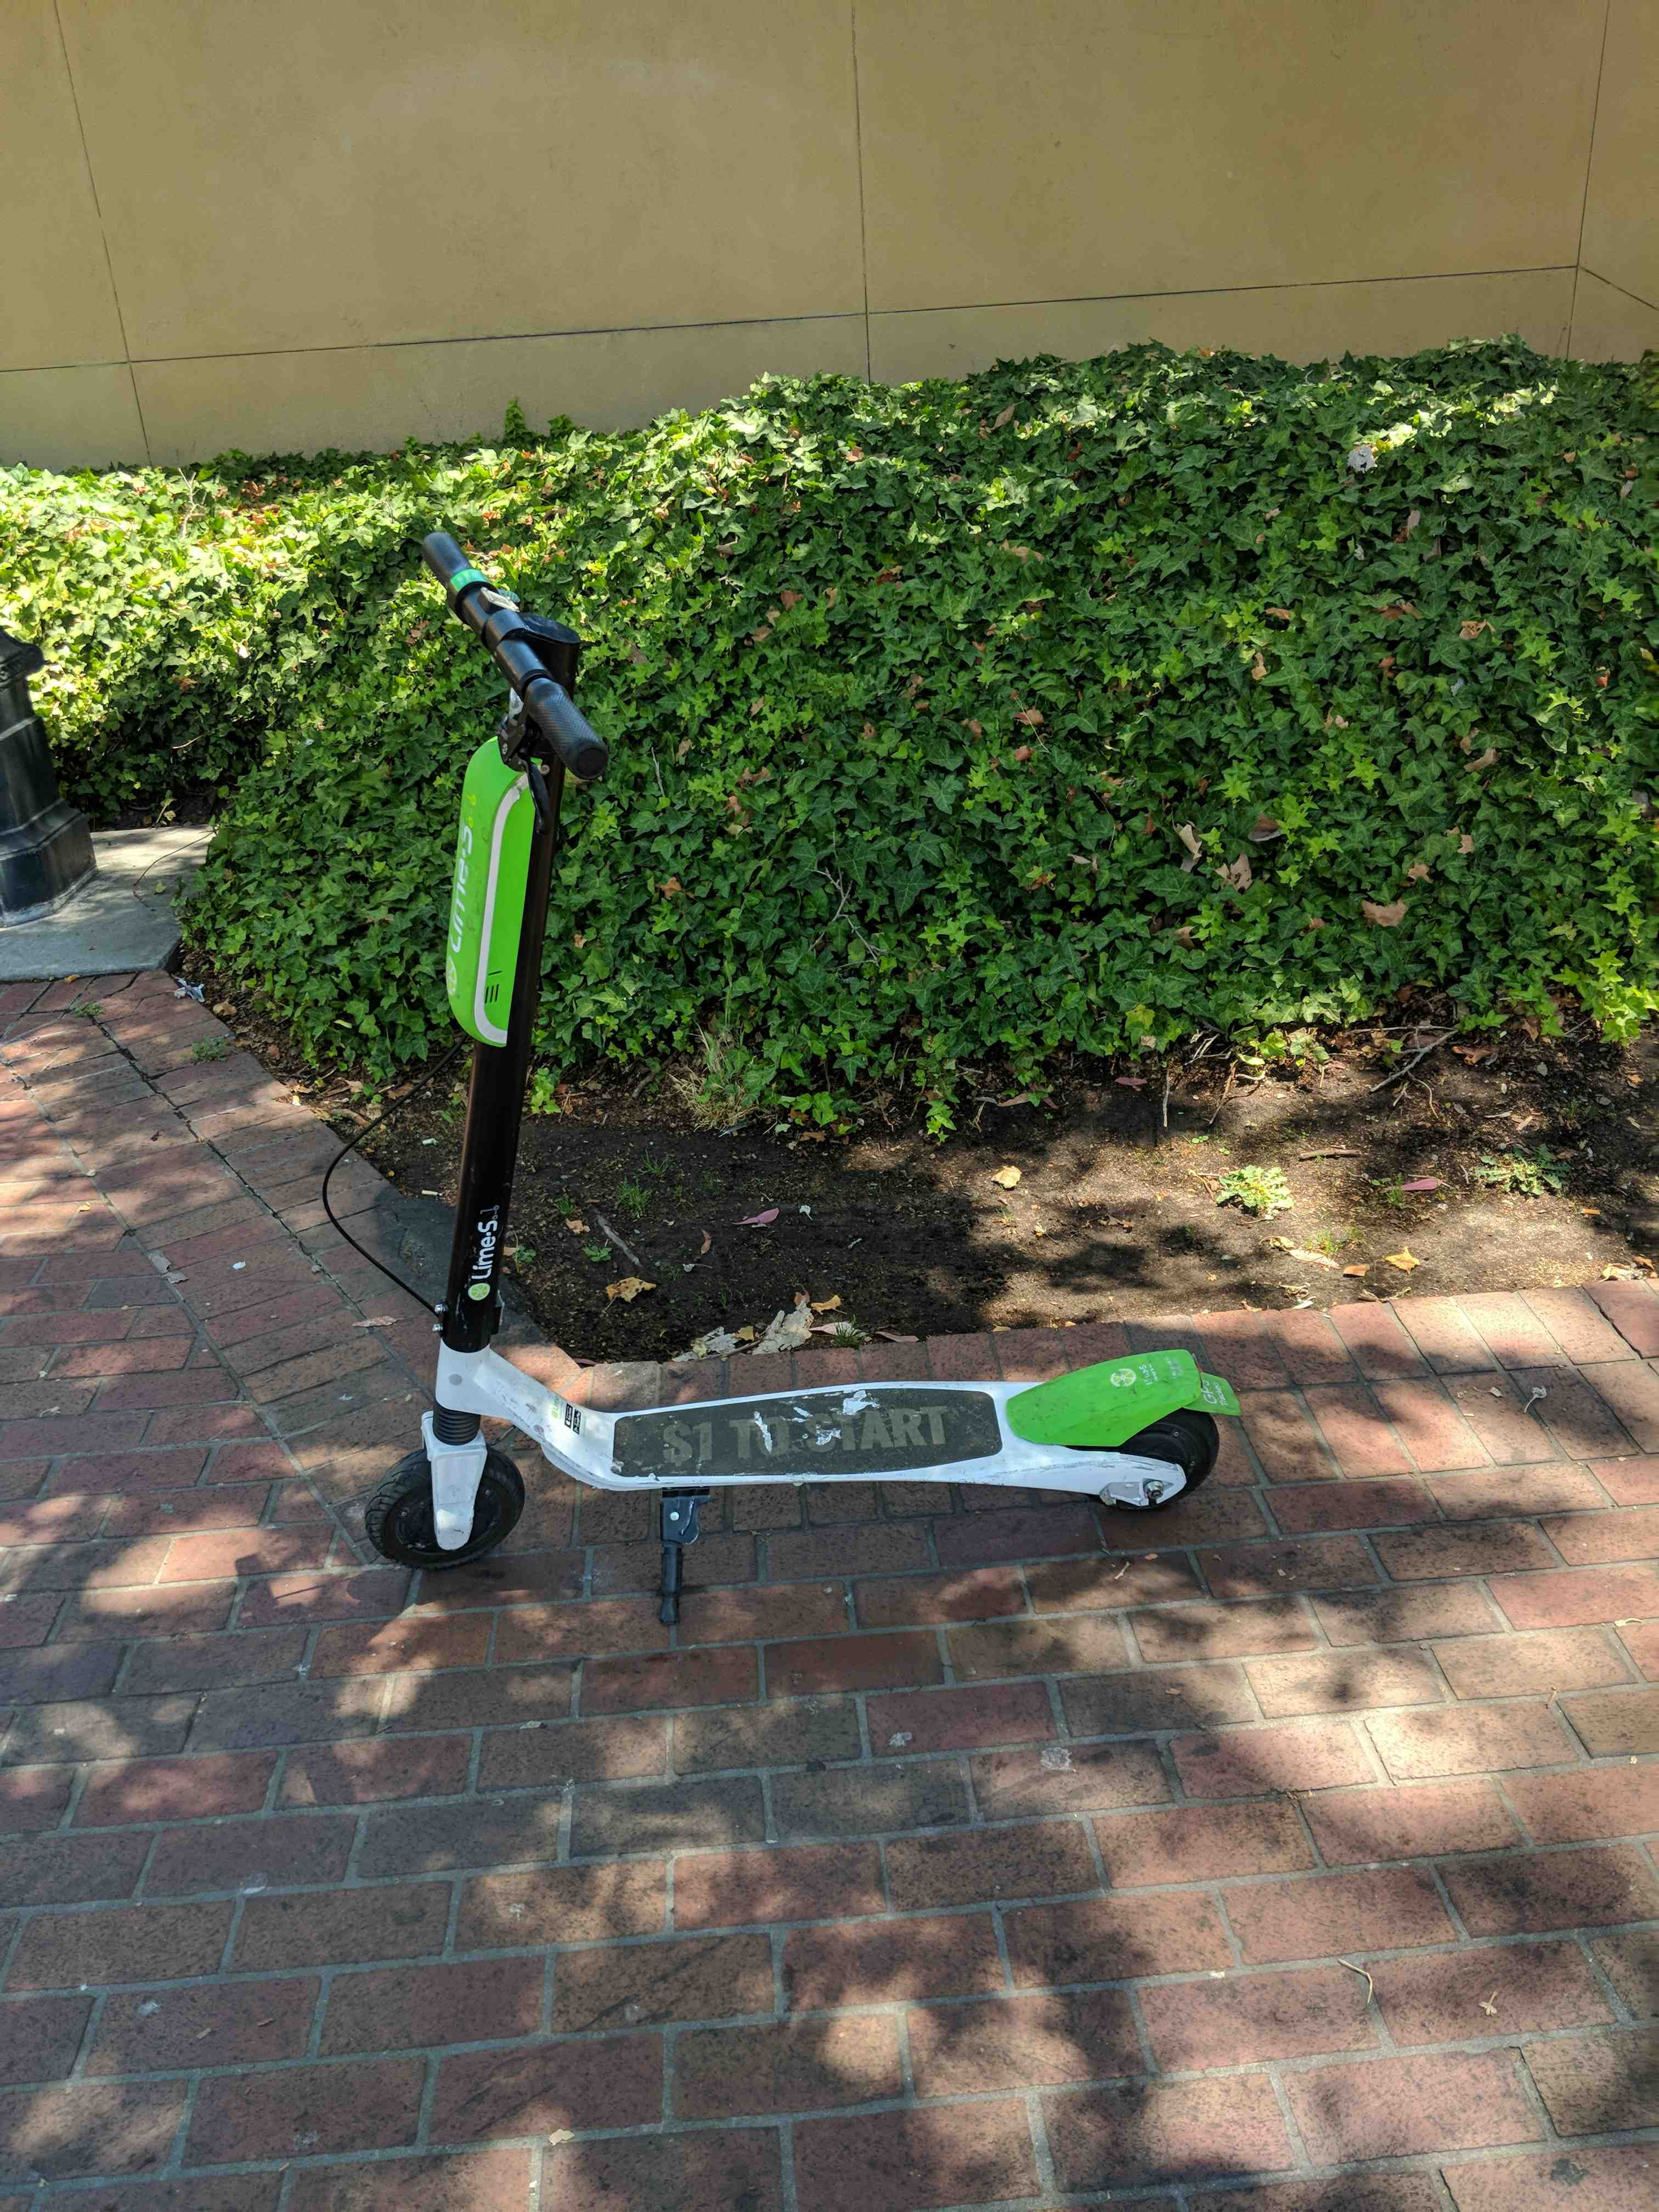scooter: (362, 502, 1241, 1618)
